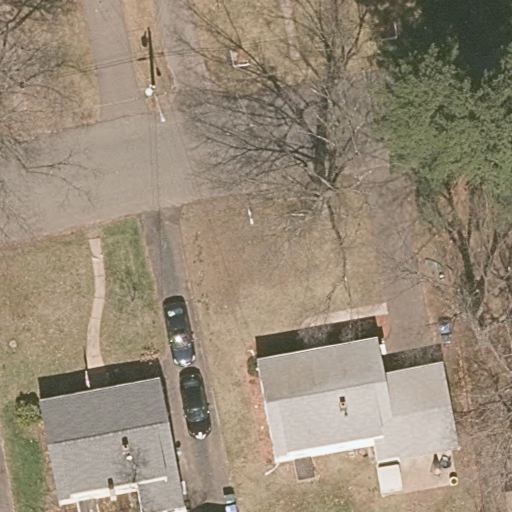DT: (144, 82, 167, 125)
